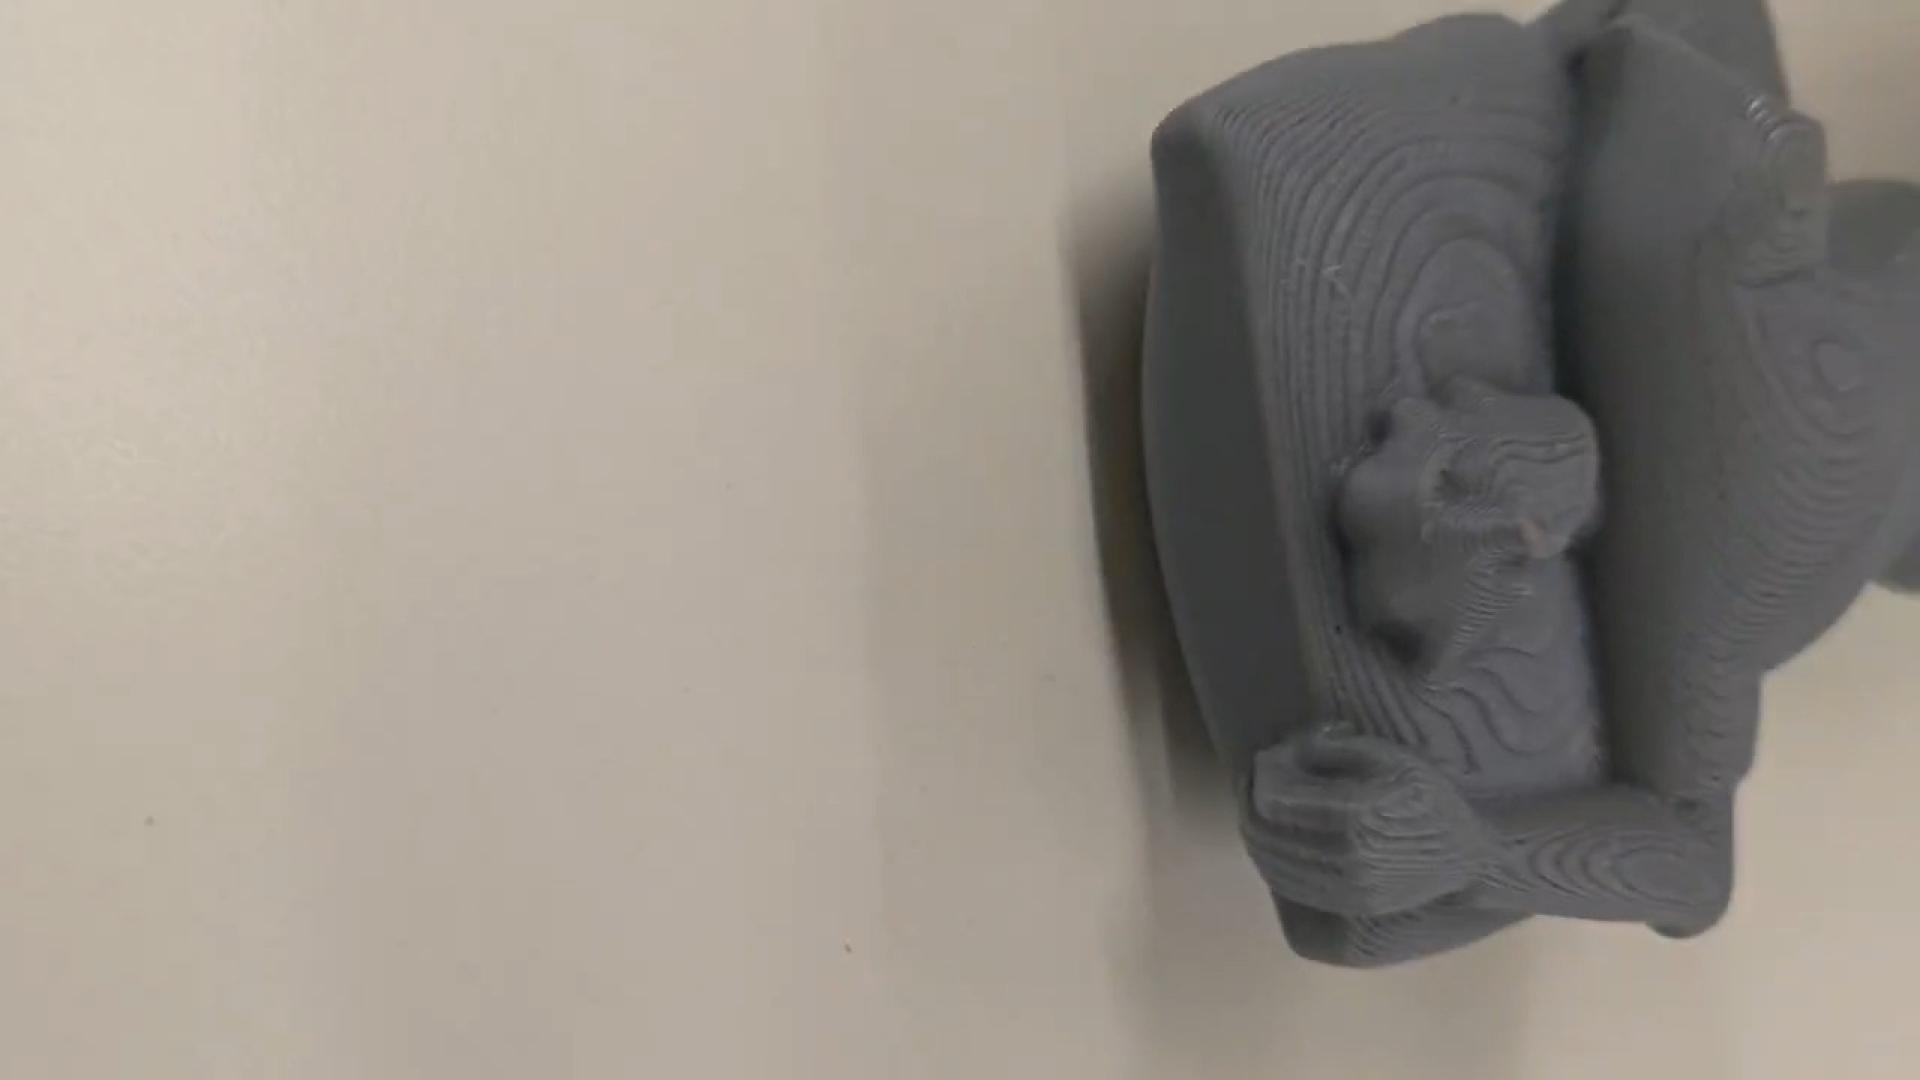Bad-style: (1151, 0, 1920, 992)
